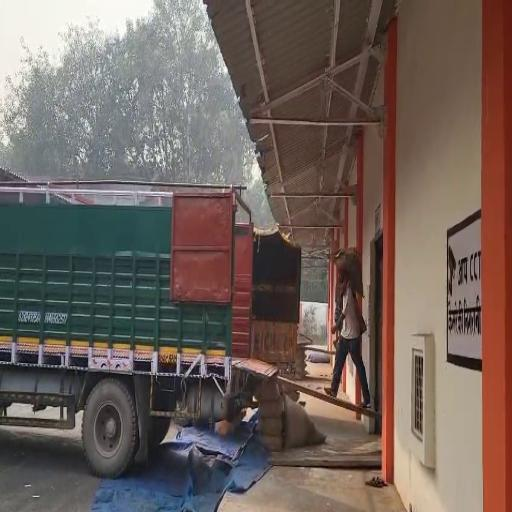bag: (330, 244, 366, 298)
